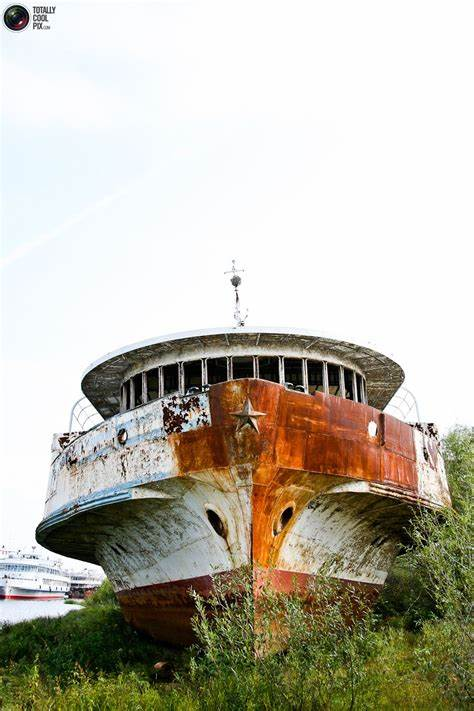rust: (208, 383, 416, 486), (253, 498, 285, 572), (173, 431, 201, 470)
